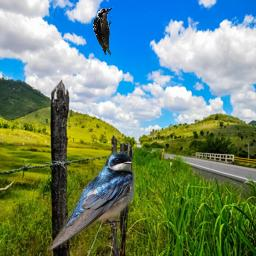Swallow: (48, 149, 137, 253)
Woodpecker: (91, 5, 115, 58)
